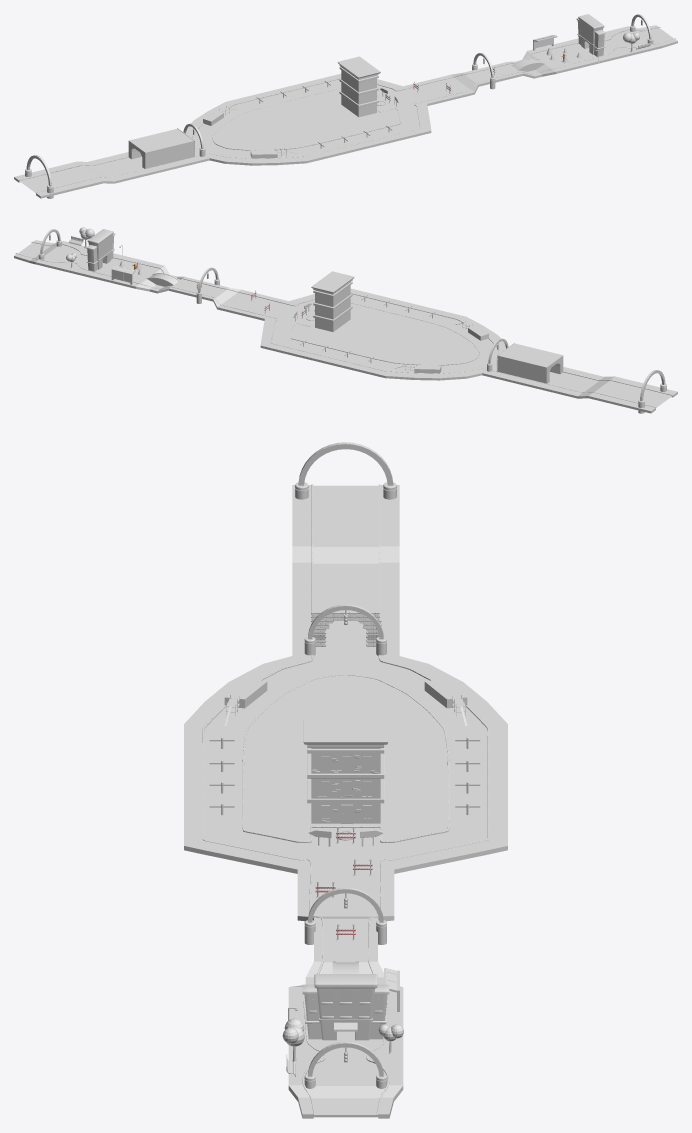
The model's file is ciudad.fbx.
3 renders of one model, top to bottom at view 1: azimuth 30°, elevation 25°; view 2: azimuth 150°, elevation 25°; view 3: azimuth 270°, elevation 25°, orthographic. The views are drawn at different scales.
Parts seen in each view (by area): view 1: Floor.003, Floor.005, Cube.057, Cube.006, Cube.064, Cube.108, Cube.045, Cube.036; view 2: Floor.003, Floor.005, Cube.057, Cube.006, Cube.064, Cube.108, Cube.045, Cube.036; view 3: Floor.003, Floor.005, Cube.006, Cube.064, Cube.057, Cube.108, Cube.045, Cube.036, Cube.028.
Part boxes in pixels (x1,y1,x2,y2): Floor.003: [14, 25, 677, 198]; Floor.005: [19, 28, 673, 192]; Cube.057: [128, 129, 194, 168]; Cube.006: [19, 27, 676, 192]; Cube.064: [341, 70, 376, 117]; Cube.108: [337, 56, 380, 79]; Cube.045: [212, 88, 401, 150]; Cube.036: [579, 19, 603, 54]; Floor.003: [14, 240, 677, 413]; Floor.005: [18, 242, 672, 407]; Cube.057: [498, 343, 563, 383]; Cube.006: [15, 241, 672, 407]; Cube.064: [315, 285, 350, 331]; Cube.108: [311, 271, 354, 294]; Cube.045: [290, 303, 479, 365]; Cube.036: [88, 234, 112, 269]; Floor.003: [184, 485, 507, 1118]; Floor.005: [204, 485, 487, 1117]; Cube.006: [202, 484, 489, 1115]; Cube.064: [311, 748, 380, 823]; Cube.057: [312, 565, 378, 620]; Cube.108: [303, 720, 388, 747]; Cube.045: [242, 674, 449, 842]; Cube.036: [317, 988, 374, 1040]; Cube.028: [304, 994, 387, 1039].
Size of the model in its own units: 77800 by 5225 by 17047.
Materials: 15 (1 with a texture image).
